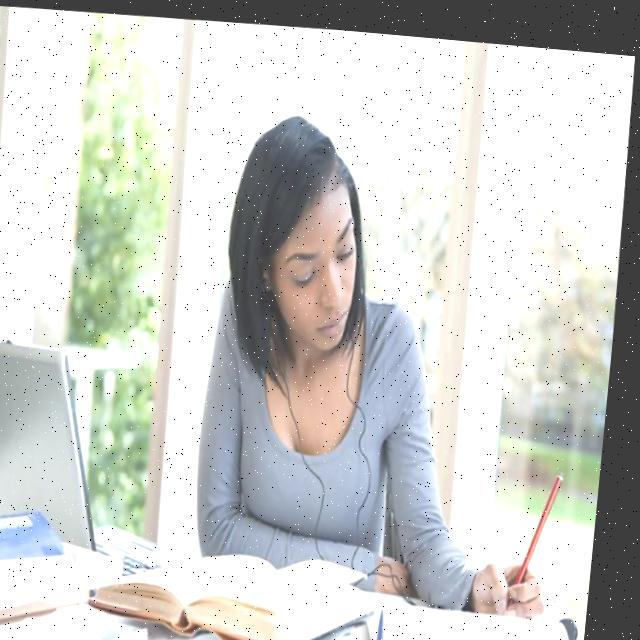studying-person: (86, 89, 616, 640)
